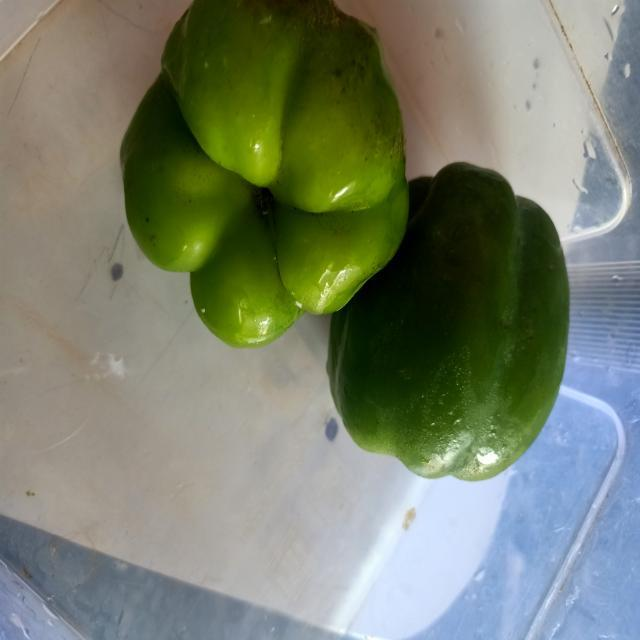Capsicum: (112, 3, 411, 371), (313, 142, 584, 501)
